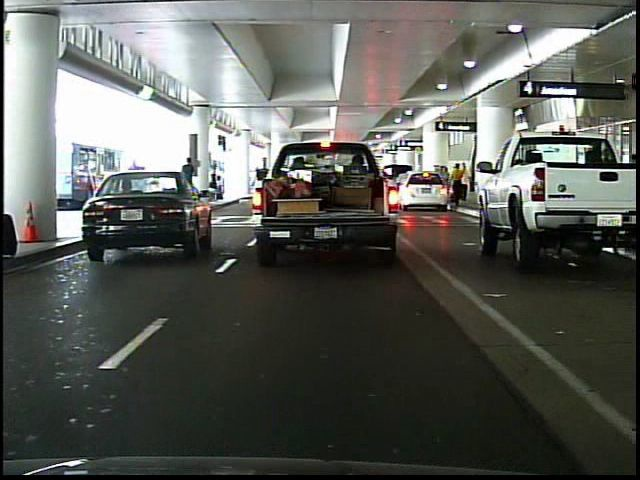person: (178, 153, 201, 210)
